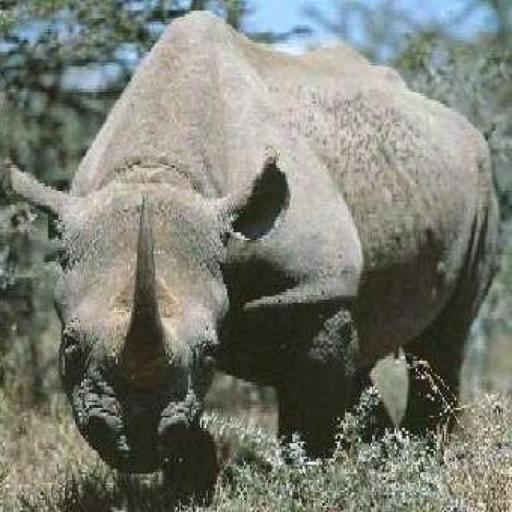Rhino: (6, 8, 503, 498)
